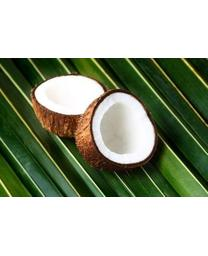coconut: (76, 88, 157, 171), (30, 75, 107, 136)
